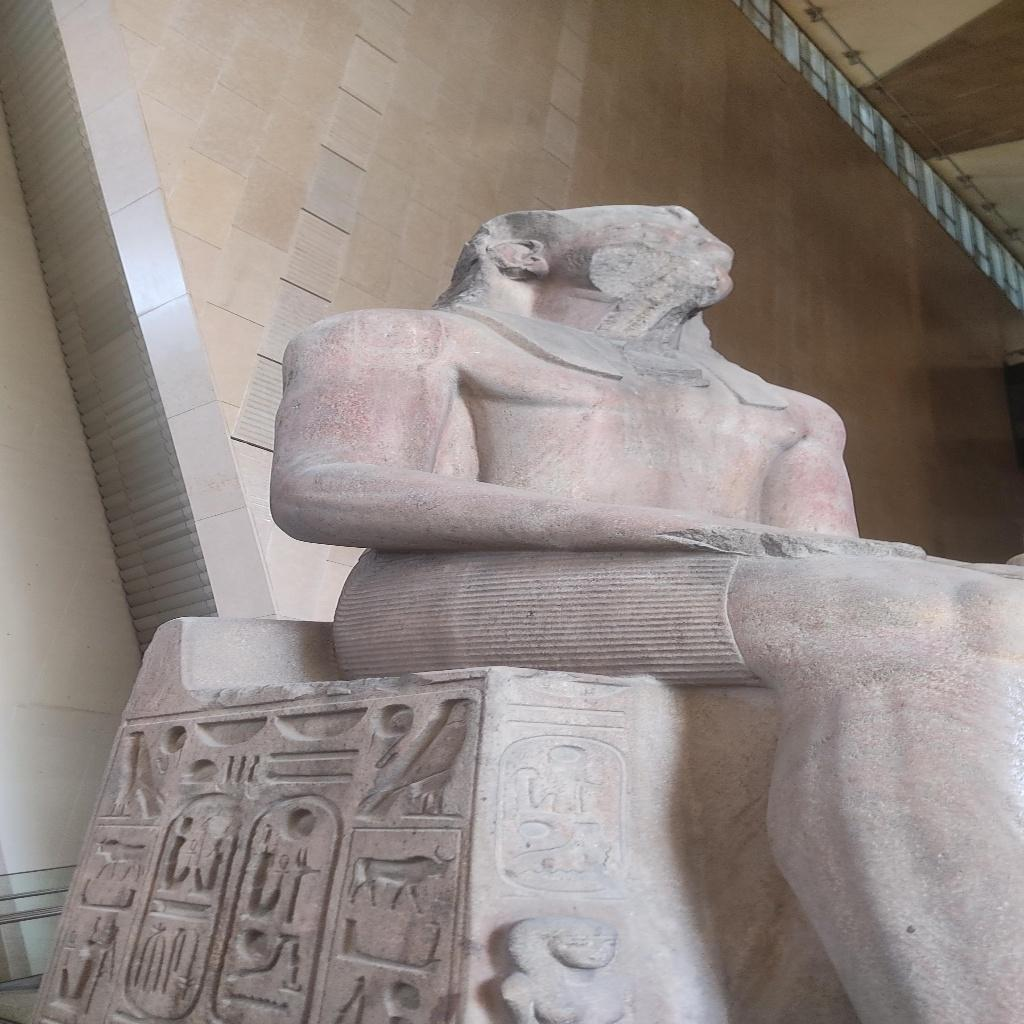Colossal Statue of Middle Kingdom King: (33, 200, 1017, 1020)
